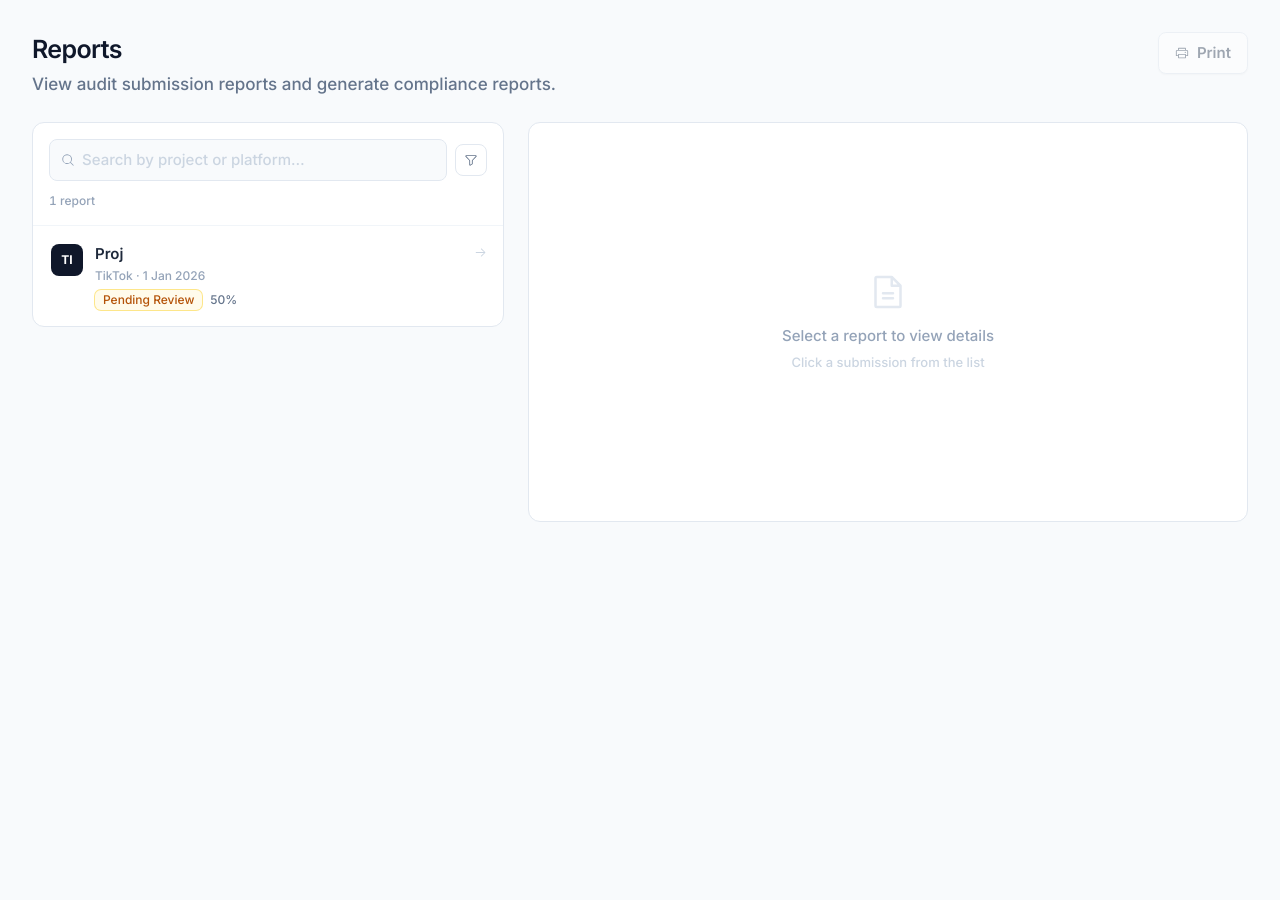
Scenario: ReportsPage provenance badges › a failed suggestions fetch (503) leaves the report rendering with no badges
What coordinates should you click on to do the following:
click the button "TI Proj TikTok · 1 Jan 2026 Pending Review 50%"
I would click on:
 (67, 260)
Its box is [33, 226, 503, 326].
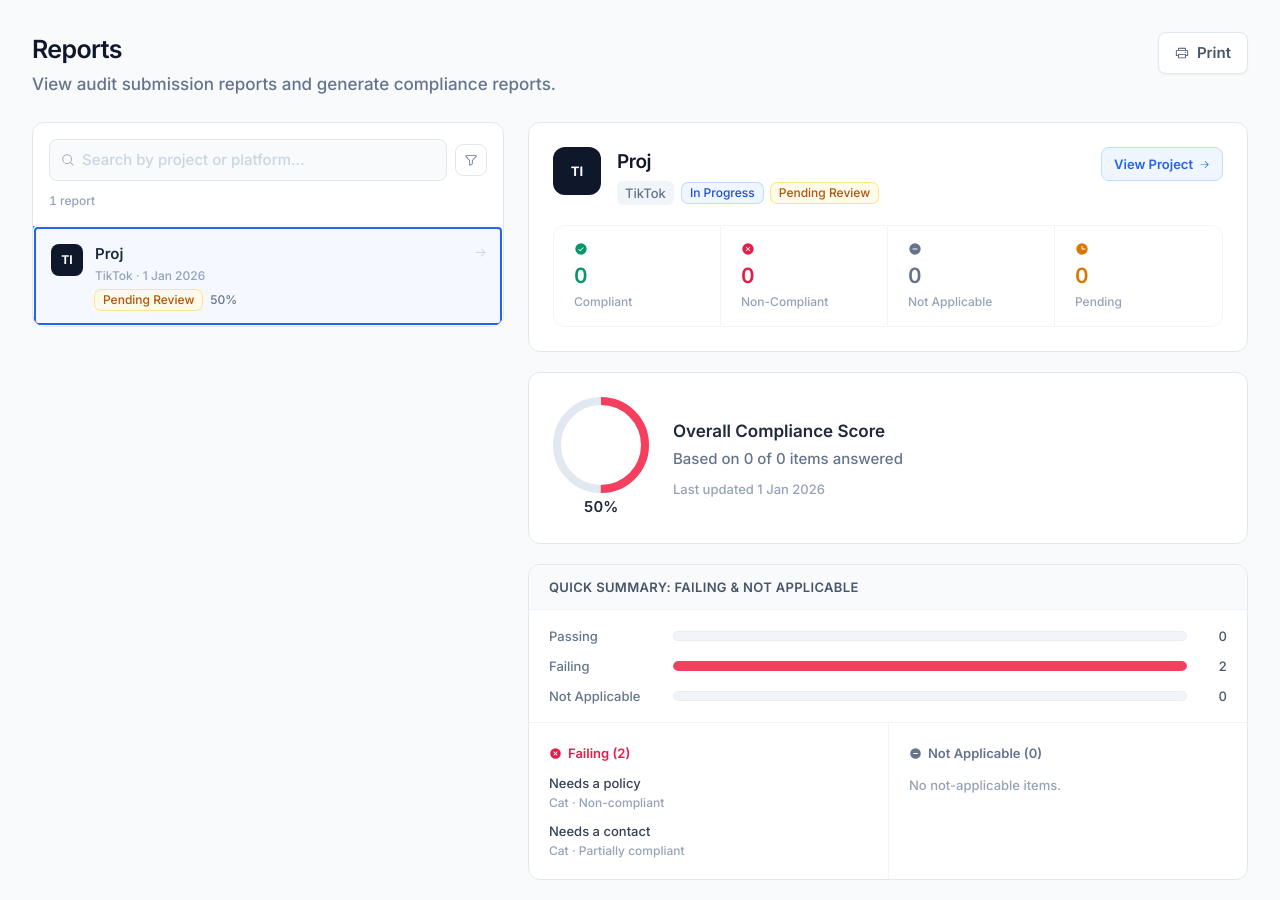
Expected: the text "Needs a contact" is shown, [549, 823, 650, 839]
Expected: the heading "Proj" is shown, [617, 150, 651, 173]
